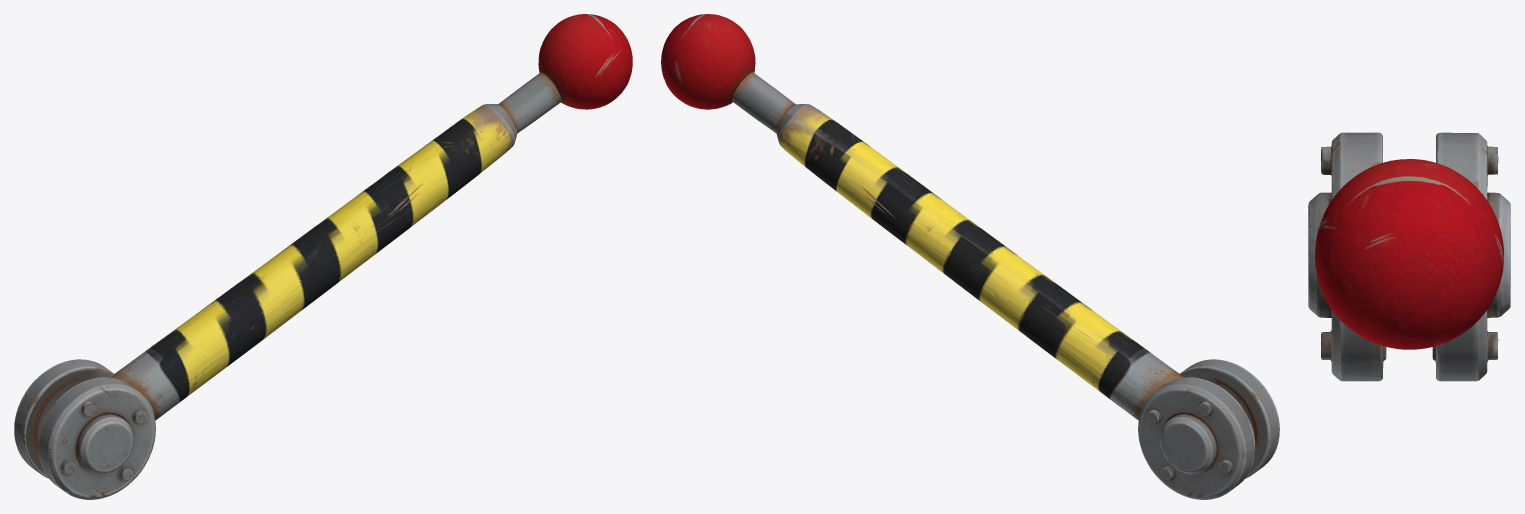
Rendered from leva_braccio.glb.
The picture shows the model from 3 angles, left to right: view 1: azimuth 30°, elevation 25°; view 2: azimuth 150°, elevation 25°; view 3: azimuth 270°, elevation 25°; orthographic projection. The views are drawn at different scales.
Visible parts, largest first — view 1: Mesh_0; view 2: Mesh_0; view 3: Mesh_0.
Part boxes in pixels (bbox=[...]): Mesh_0: bbox=[14, 14, 632, 499]; Mesh_0: bbox=[661, 14, 1279, 499]; Mesh_0: bbox=[1308, 132, 1510, 381].
Bounding box in the file's own units: 1.9 × 1.05 × 0.2803.
Materials: 1 (1 with a texture image).
